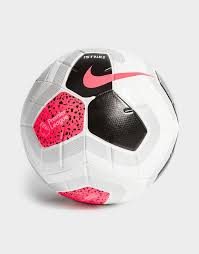football: (20, 43, 185, 208)
